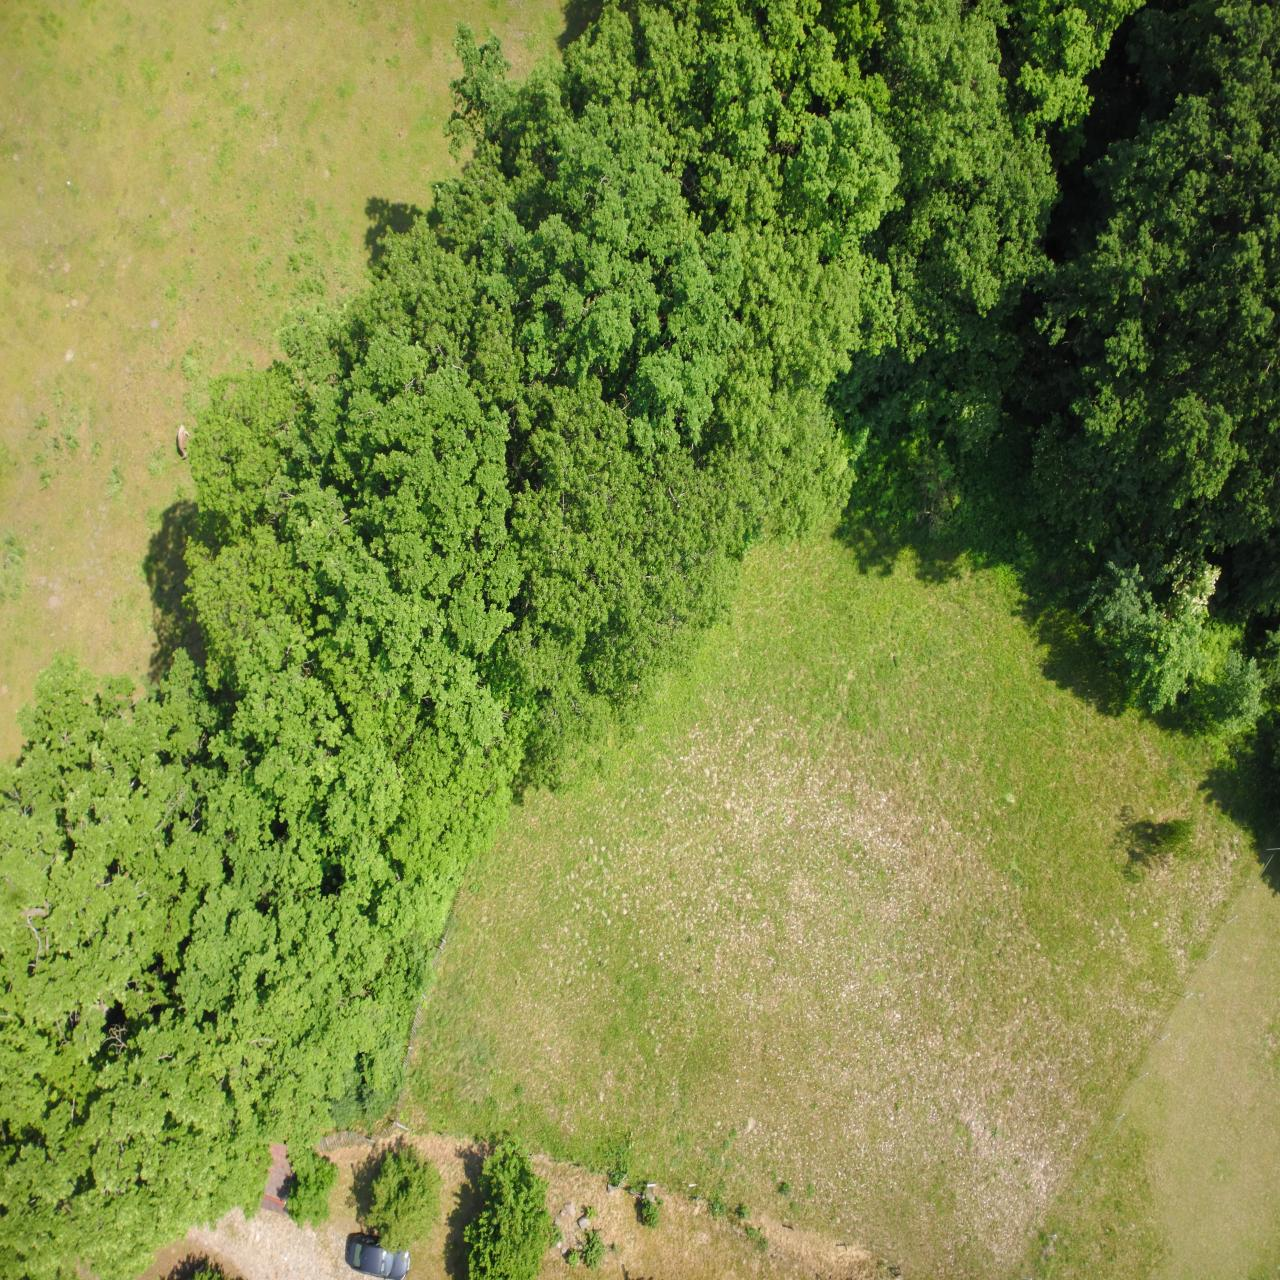cow: (1091, 819, 1102, 856)
